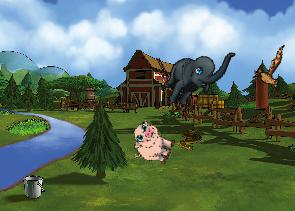eagle: (249, 45, 292, 97)
elephant: (158, 33, 236, 118)
pig: (126, 118, 179, 168)
